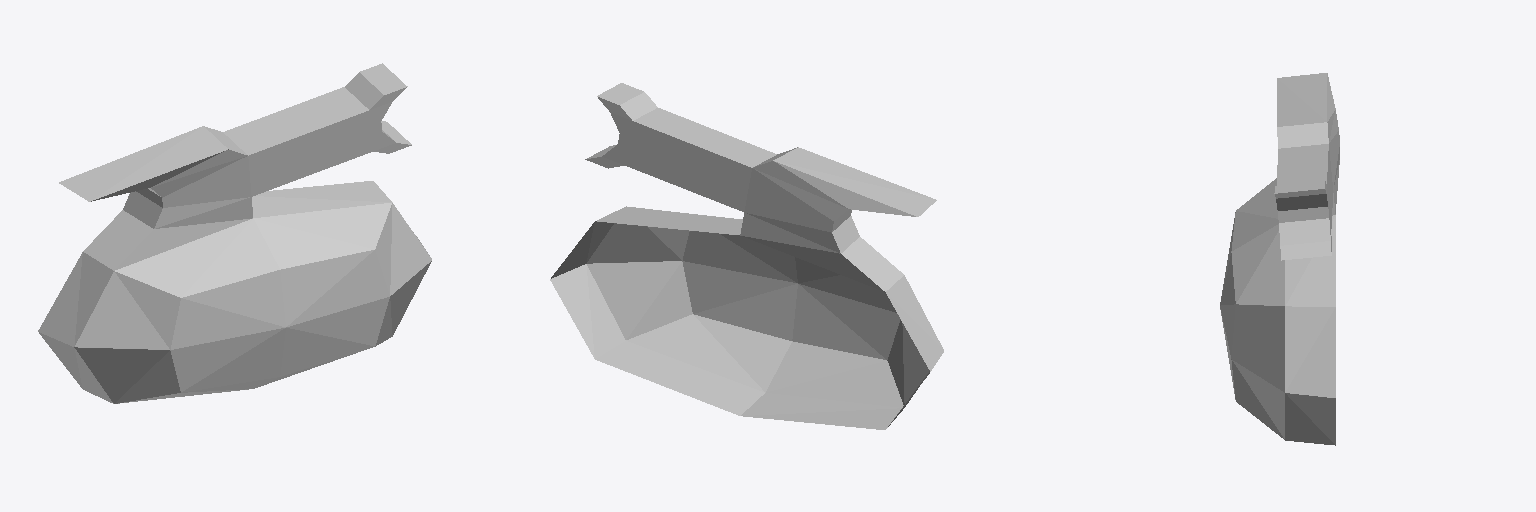
The model's file is Repair.obj.
3 renders of one model, left to right at view 1: azimuth 30°, elevation 25°; view 2: azimuth 150°, elevation 25°; view 3: azimuth 270°, elevation 25°, orthographic.
Visible parts, largest first — view 1: Plane; view 2: Plane; view 3: Plane.
Boxes of the visible parts, <box> form: Plane: <box>38,63,431,403</box>; Plane: <box>550,83,943,429</box>; Plane: <box>1220,73,1339,445</box>.
Size of the model in its own units: 3.01 by 2.11 by 0.823.